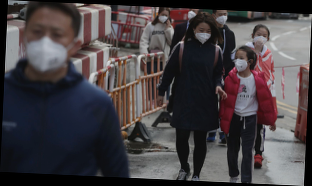with_mask: (24, 21, 73, 75), (194, 25, 212, 45), (233, 54, 249, 72), (253, 30, 268, 46), (215, 11, 229, 26), (158, 11, 169, 24), (187, 9, 198, 20)
